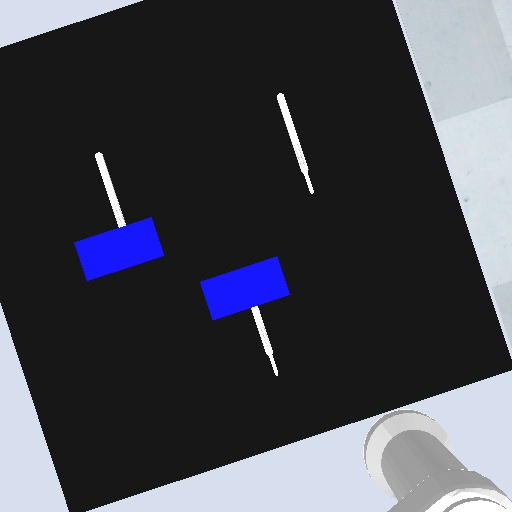bisturi: (274, 88, 320, 196), (93, 148, 128, 231), (249, 304, 283, 382)
